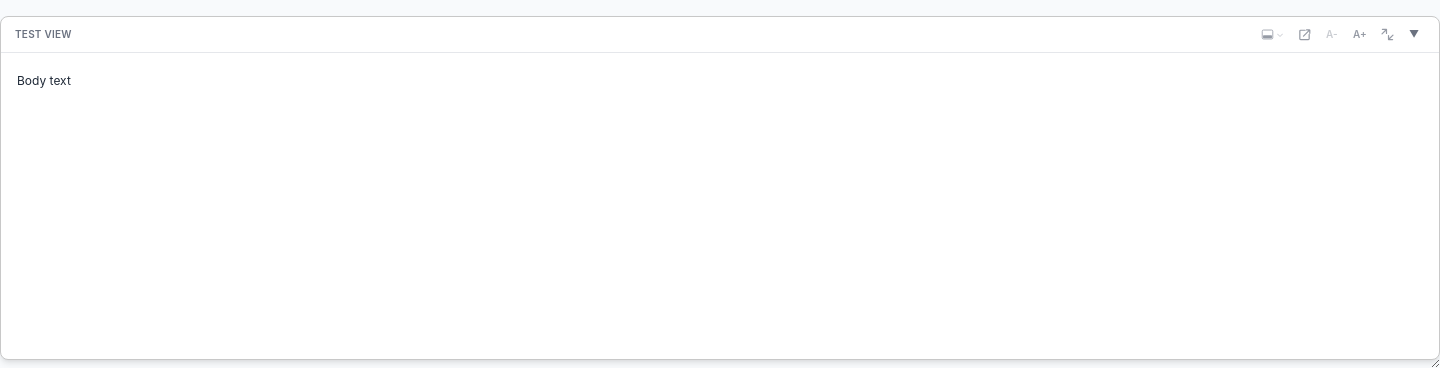
AI report dock dropdown › lists every dock position with the active one checked
The image size is (1440, 368).
Click the button named "Report panel dock position".
click(1272, 34)  # box top-left (1256, 26), bottom-right (1289, 43)
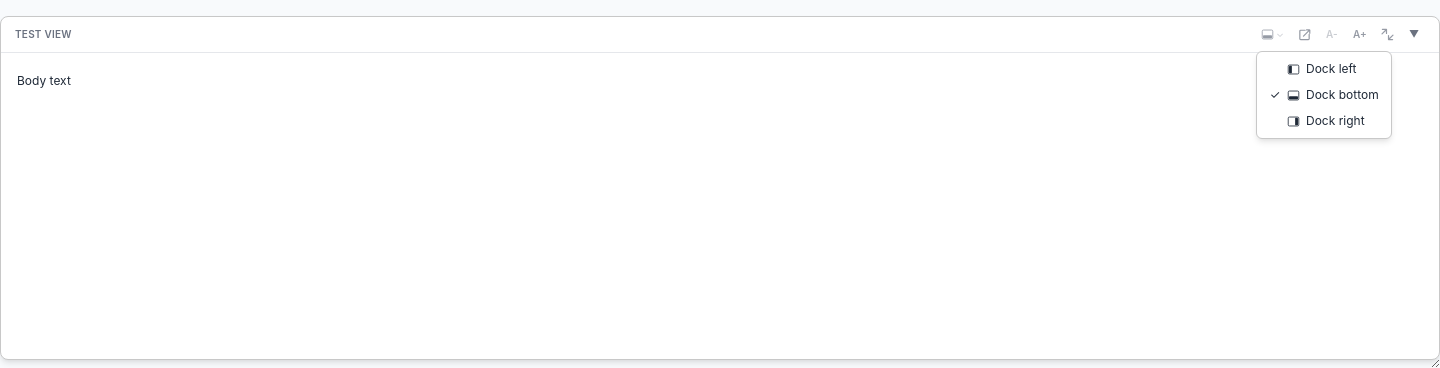
Expected: the menu item "✓ Dock bottom" is shown, top-left (1261, 82), bottom-right (1387, 108)
